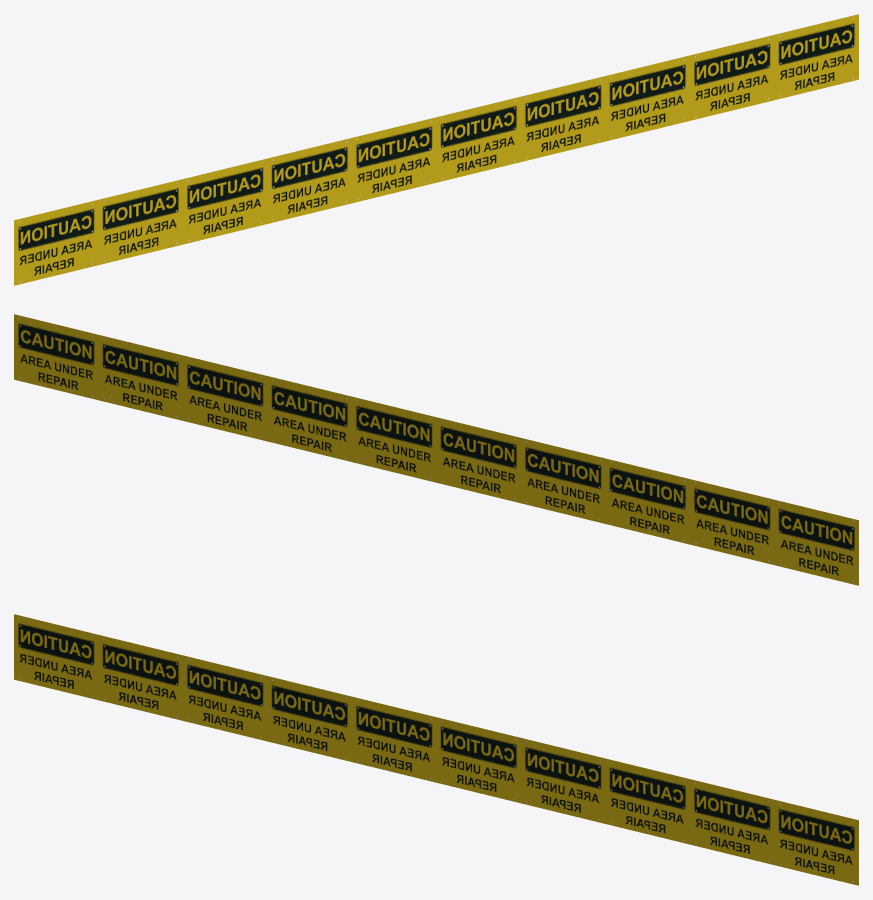
The model's file is cautionlong.glb.
The picture shows the model from 3 angles, top to bottom: view 1: azimuth 30°, elevation 25°; view 2: azimuth 150°, elevation 25°; view 3: azimuth 330°, elevation 25°; orthographic projection.
Visible parts, largest first — view 1: cautionlong; view 2: cautionlong; view 3: cautionlong.
Part boxes in pixels (x1,y1,x2,y2): cautionlong: (14, 14, 858, 285); cautionlong: (14, 314, 858, 585); cautionlong: (14, 614, 858, 885).
Bounding box in the file's own units: 3.44 × 0.2551 × 1.11e-08.
Materials: 1 (1 with a texture image).
